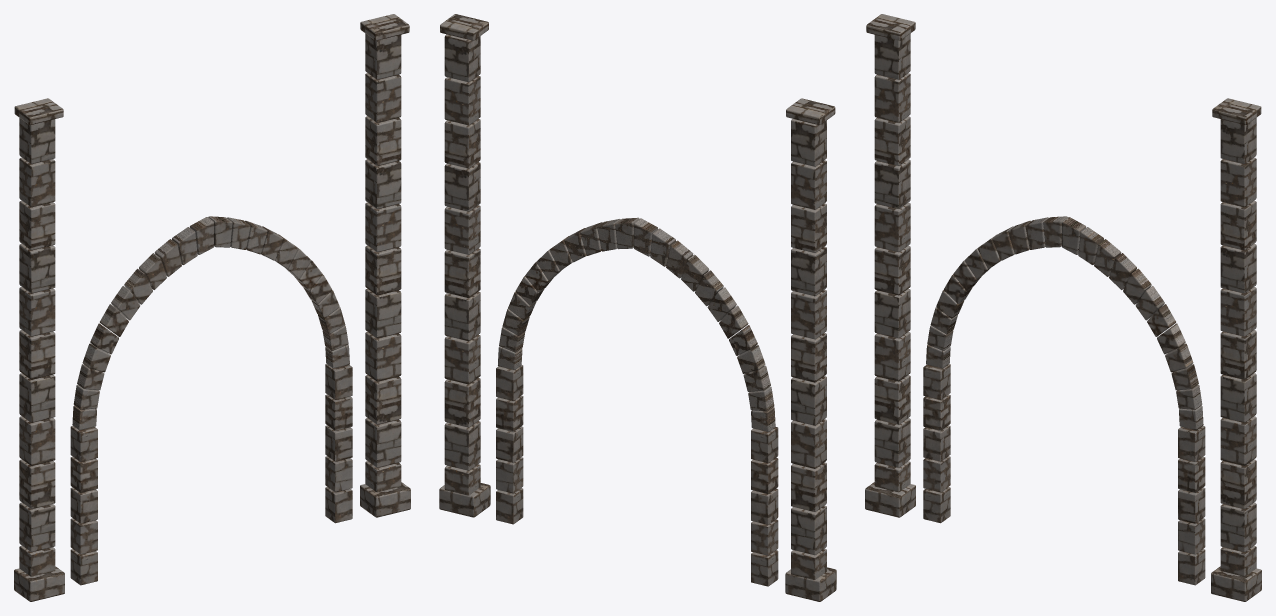
File: gate-relief.glb
3 views of the same model, side by side, from view 1: azimuth 30°, elevation 25°; view 2: azimuth 150°, elevation 25°; view 3: azimuth 330°, elevation 25° (orthographic).
Visible parts, largest first — view 1: gate-relief; view 2: gate-relief; view 3: gate-relief.
Part boxes in pixels (x1=…): gate-relief: x1=14, y1=14, x2=410, y2=601; gate-relief: x1=439, y1=14, x2=836, y2=601; gate-relief: x1=865, y1=14, x2=1261, y2=601.
Bounding box in the file's own units: 10.37 × 12.59 × 0.8.
1 material, 1 textured.
